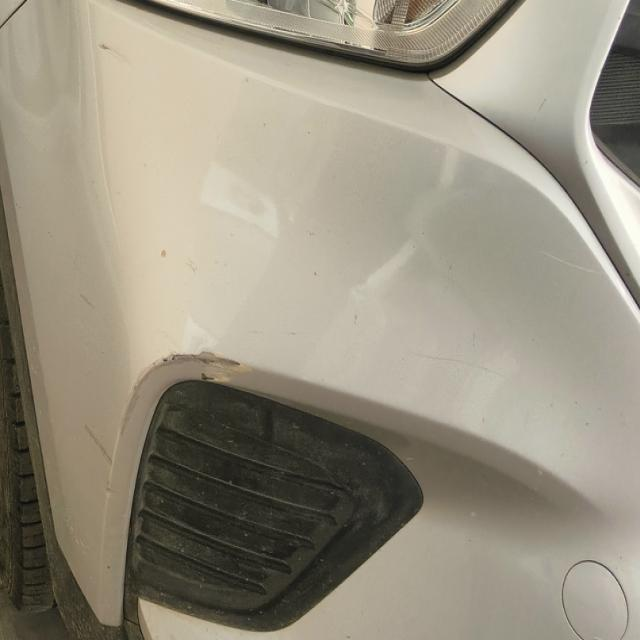scratch: (86, 338, 254, 471), (406, 332, 523, 397), (153, 235, 212, 292), (93, 34, 148, 72), (73, 291, 108, 317)
